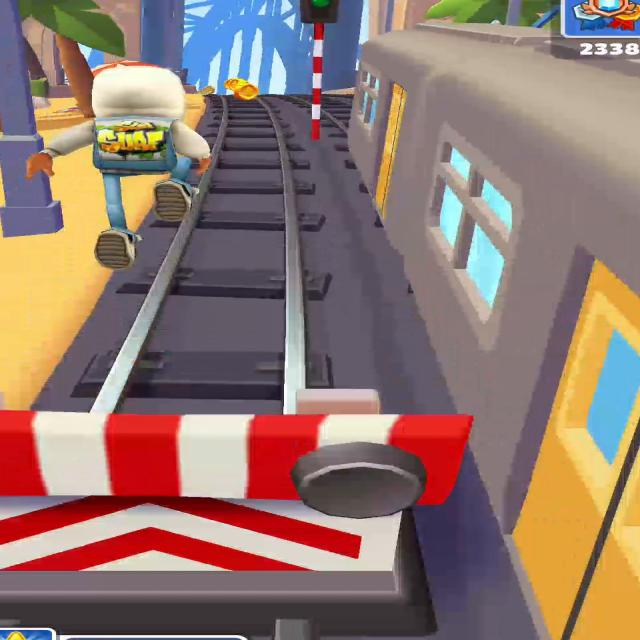train: (348, 24, 639, 640), (350, 19, 640, 587)
